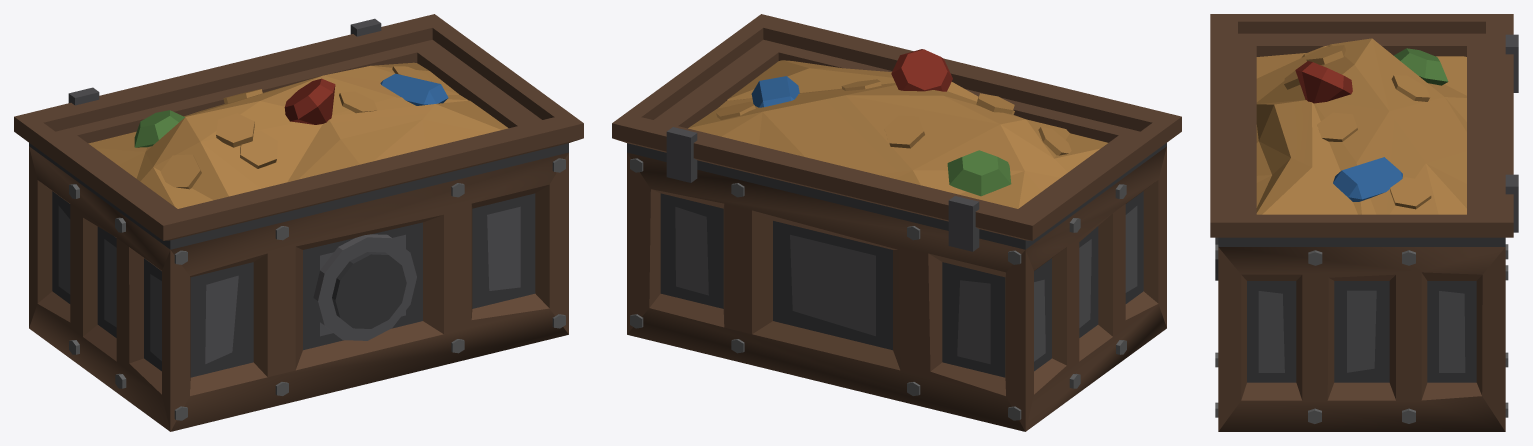
File: SM_Prop_Chest_Treasure_01.glb
The picture shows the model from 3 angles, left to right: view 1: azimuth 30°, elevation 25°; view 2: azimuth 150°, elevation 25°; view 3: azimuth 270°, elevation 25°; orthographic projection.
Parts seen in each view (by area): view 1: SM_Prop_Chest_Treasure_01; view 2: SM_Prop_Chest_Treasure_01; view 3: SM_Prop_Chest_Treasure_01.
Part boxes in pixels (x1,y1,x2,y2): SM_Prop_Chest_Treasure_01: (14,14,583,431); SM_Prop_Chest_Treasure_01: (612,14,1181,431); SM_Prop_Chest_Treasure_01: (1210,14,1518,431).
Size of the model in its own units: 0.00974 by 0.00587 by 0.00609.
